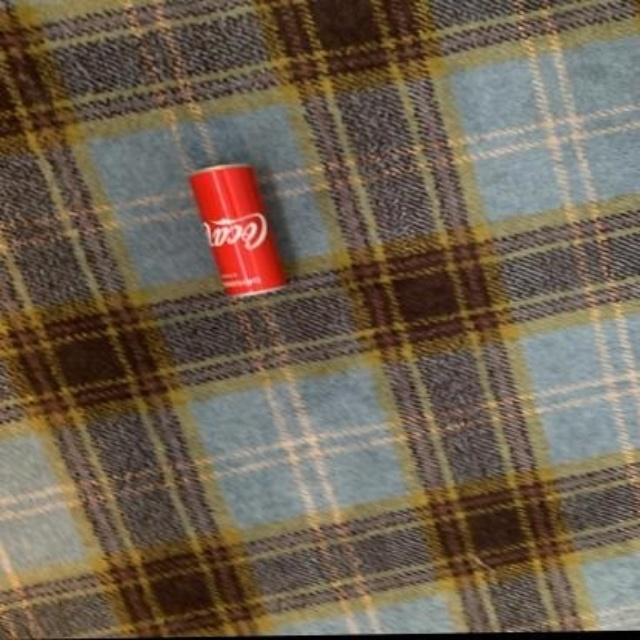trash: (189, 165, 286, 294)
